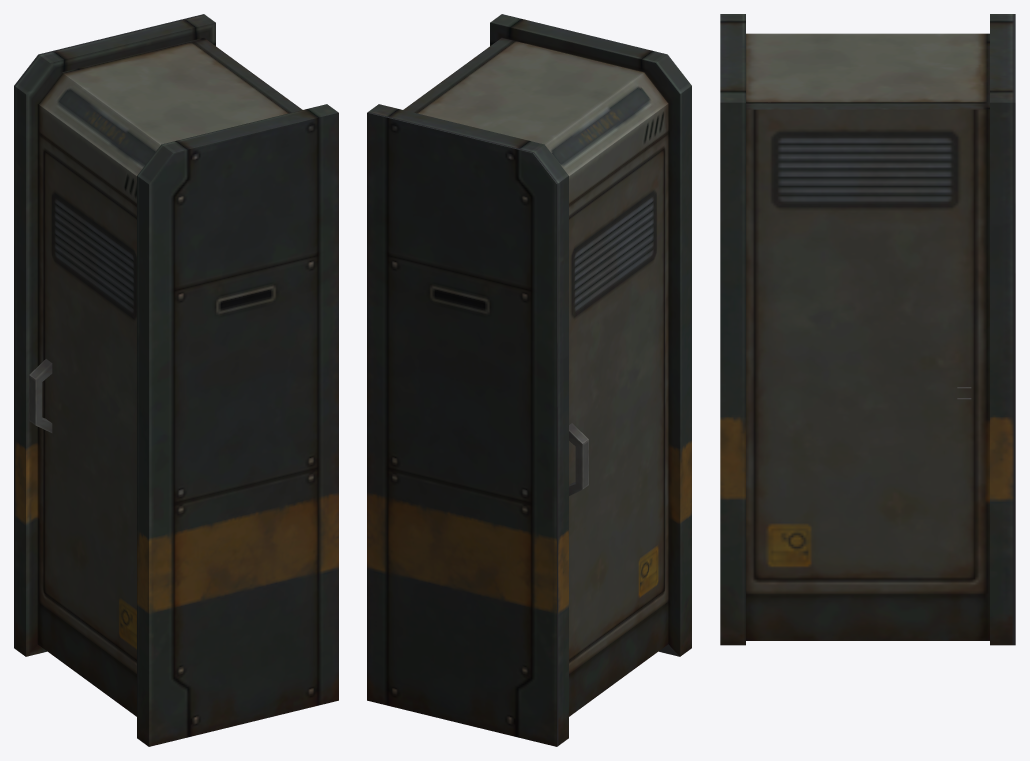
File: Locker01.FBX
3 views of the same model, side by side, from view 1: azimuth 30°, elevation 25°; view 2: azimuth 150°, elevation 25°; view 3: azimuth 270°, elevation 25° (orthographic). The views are drawn at different scales.
Visible parts, largest first — view 1: Locker01; view 2: Locker01; view 3: Locker01.
Part boxes in pixels (<box>): Locker01: <box>14,14,338,746</box>; Locker01: <box>367,14,691,746</box>; Locker01: <box>720,14,1015,645</box>.
Size of the model in its own units: 0.7969 by 2.29 by 0.9538.
Materials: 1 (1 with a texture image).
